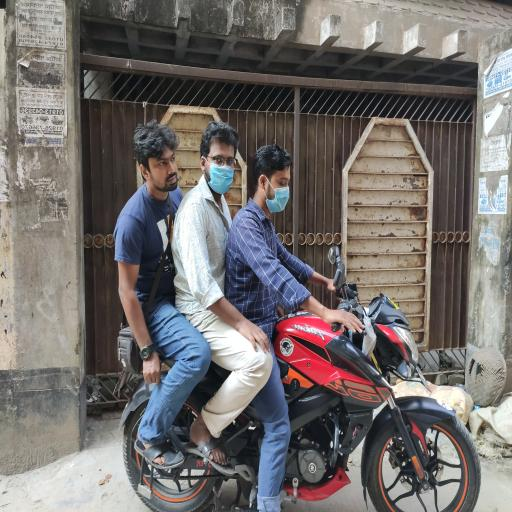helmet: (464, 345, 507, 408)
overloading: (116, 246, 481, 510)
